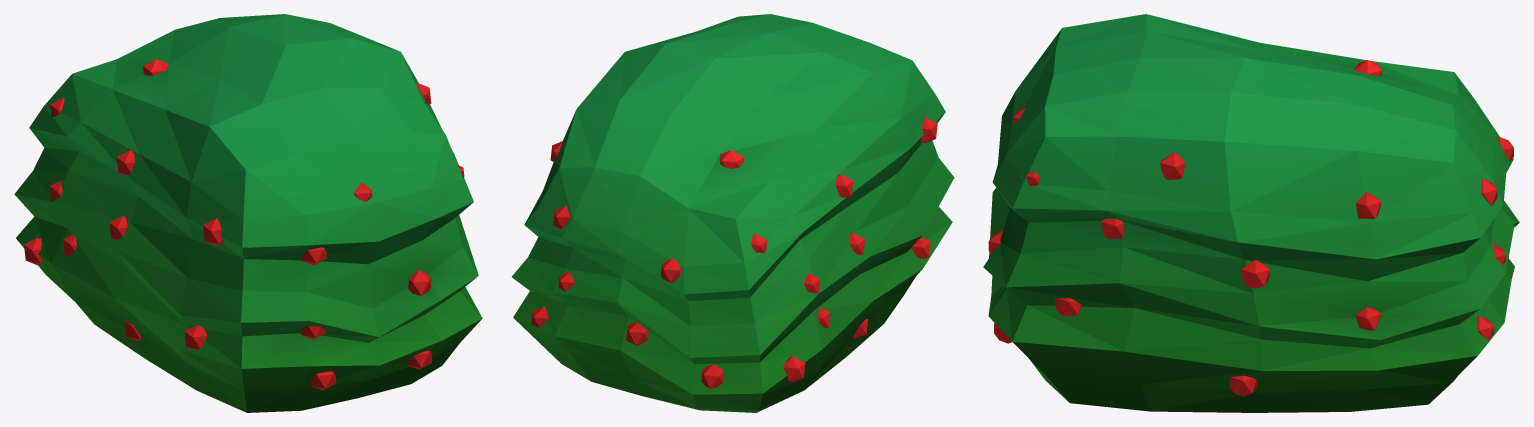
File: bush_berry.glb
3 views of the same model, side by side, from view 1: azimuth 30°, elevation 25°; view 2: azimuth 150°, elevation 25°; view 3: azimuth 270°, elevation 25° (orthographic). The views are drawn at different scales.
Parts seen in each view (by area): view 1: bush_berry; view 2: bush_berry; view 3: bush_berry.
Part boxes in pixels (box(x1,y1,x2,y2)): bush_berry: box(14, 14, 482, 412); bush_berry: box(512, 14, 954, 412); bush_berry: box(983, 14, 1519, 412).
Bounding box in the file's own units: 1.19 × 1 × 1.59.
1 material, 1 textured.
